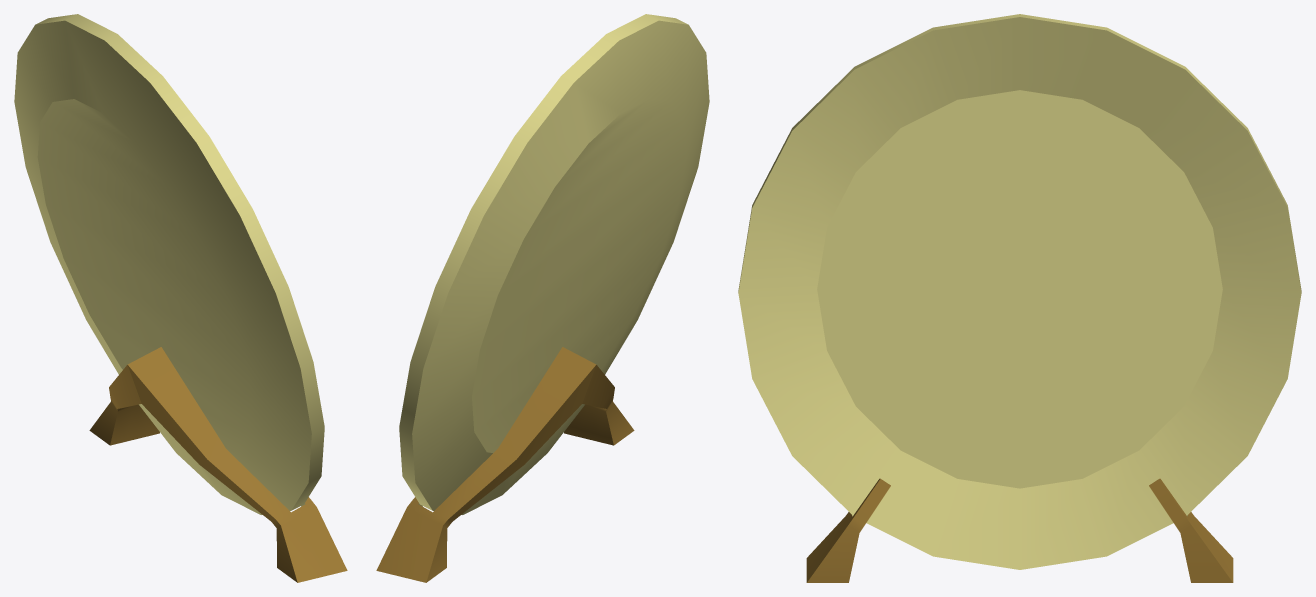
File: Book_Shelf_Stuff_02.glb
The picture shows the model from 3 angles, left to right: view 1: azimuth 30°, elevation 25°; view 2: azimuth 150°, elevation 25°; view 3: azimuth 270°, elevation 25°; orthographic projection. The views are drawn at different scales.
Parts seen in each view (by area): view 1: Awards.002; view 2: Awards.002; view 3: Awards.002.
Part boxes in pixels (<box>): Awards.002: <box>14,14,347,582</box>; Awards.002: <box>376,14,709,582</box>; Awards.002: <box>738,14,1301,582</box>.
Size of the model in its own units: 0.0591 by 0.1972 by 0.2.
